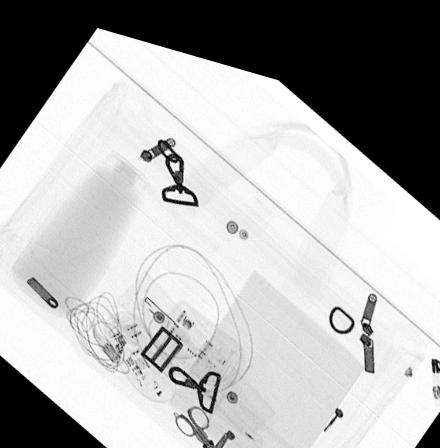Scissors: (172, 392, 225, 448)
